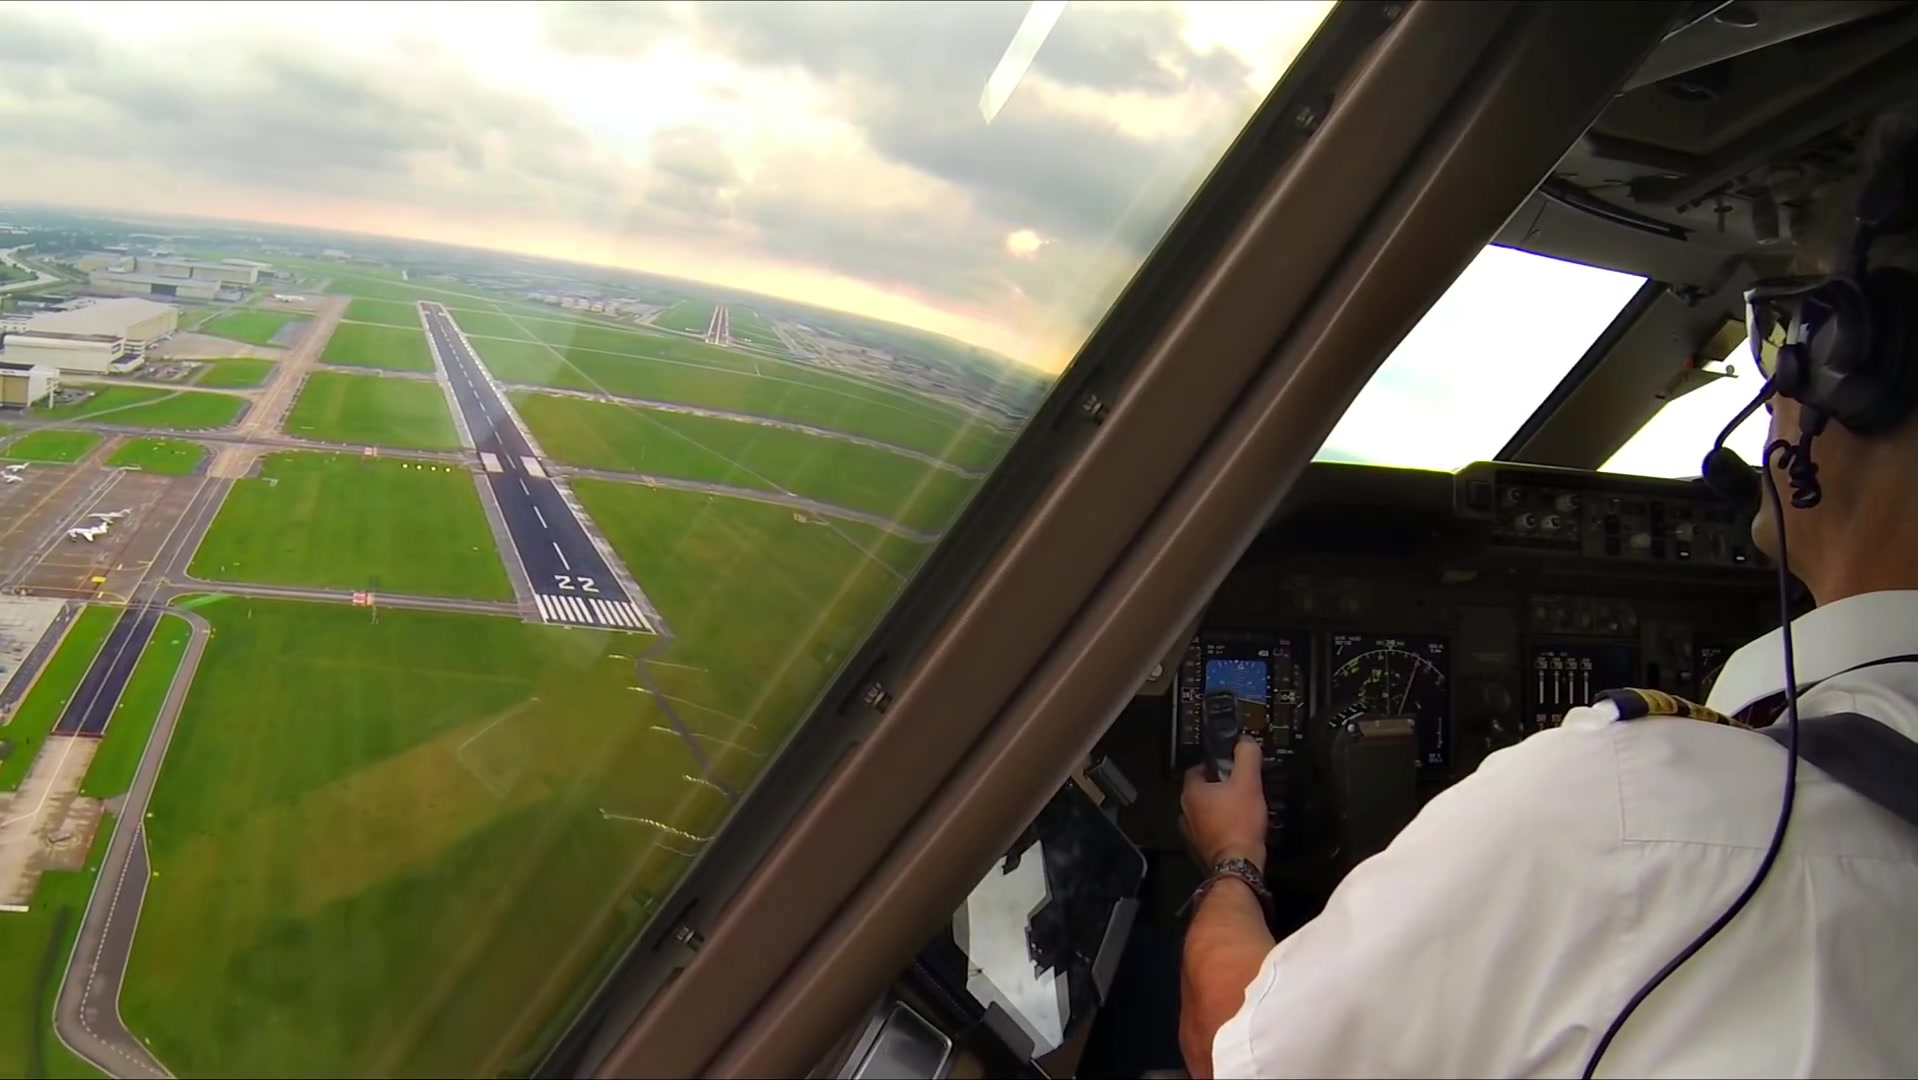entrance: (534, 594, 652, 628)
runway: (411, 300, 663, 643), (697, 304, 731, 357)
